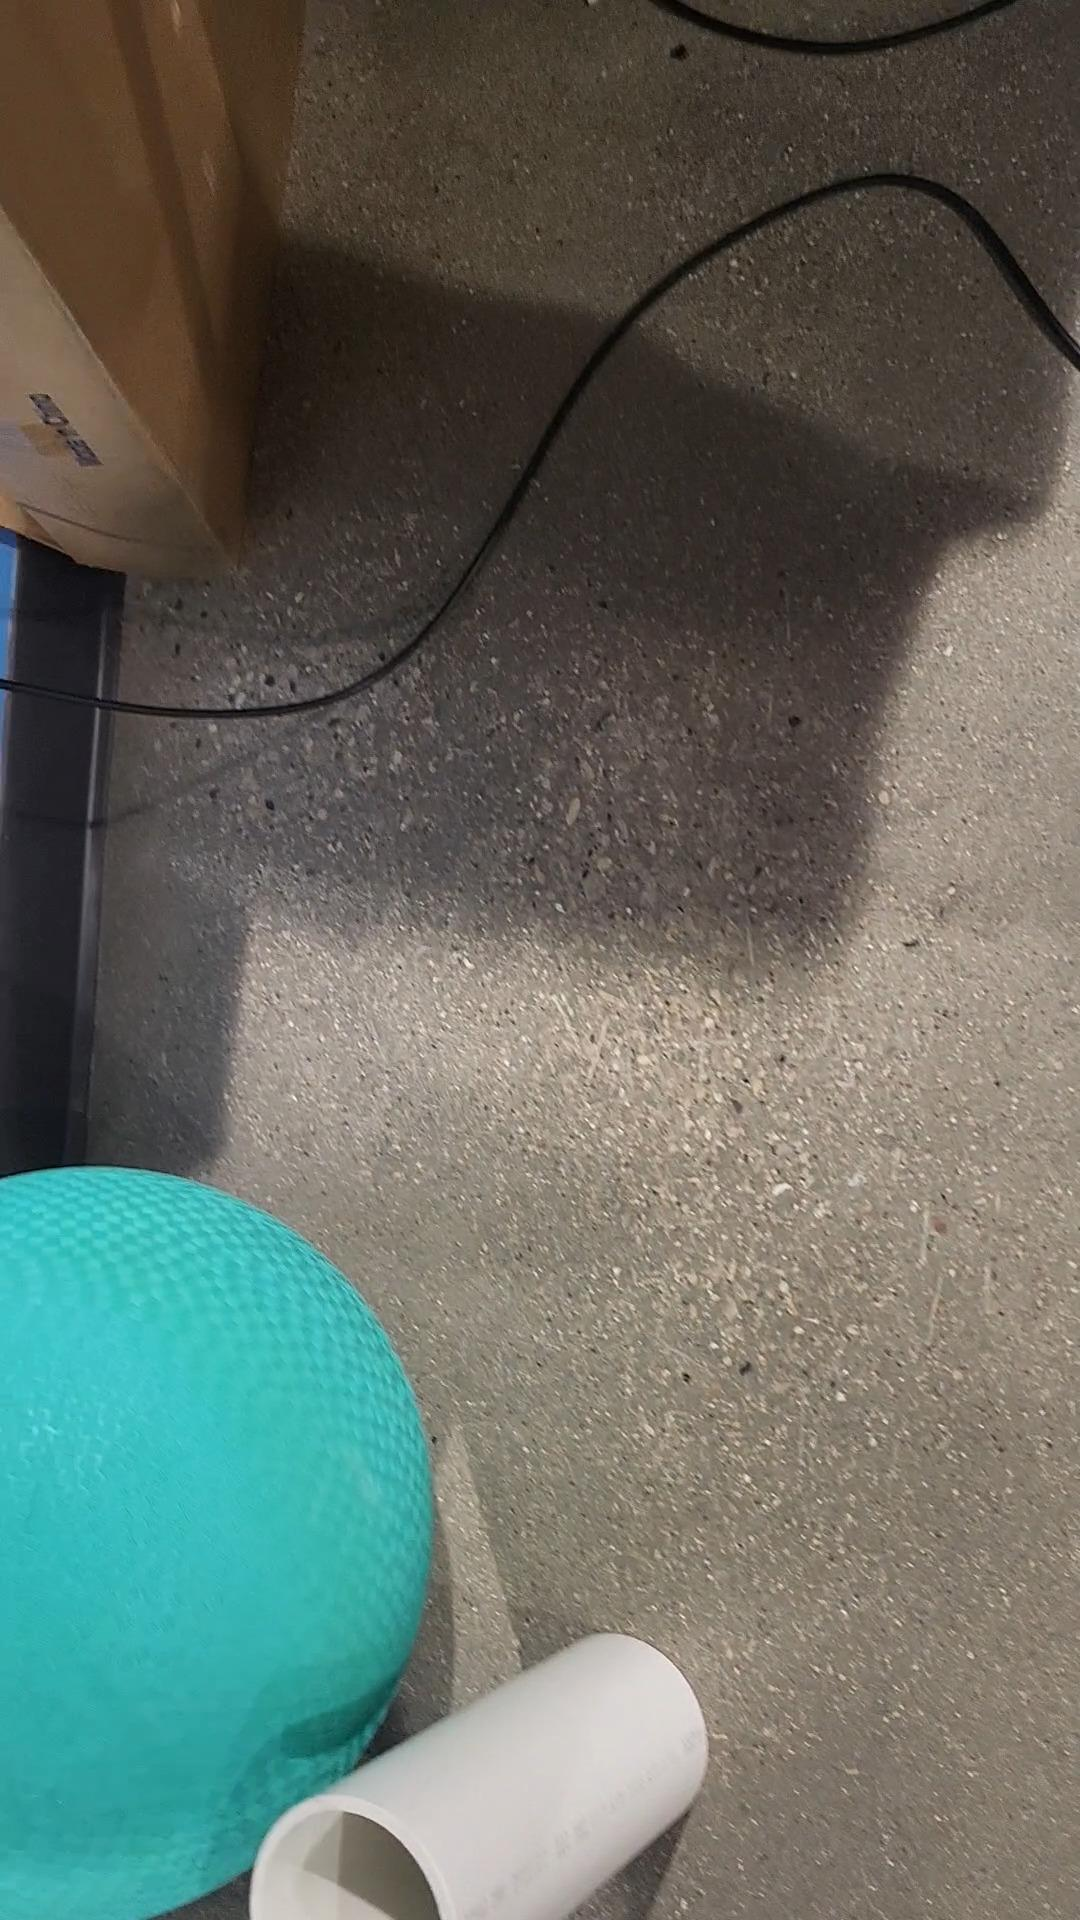algae: (0, 1165, 432, 1920)
coral: (252, 1625, 710, 1920)
